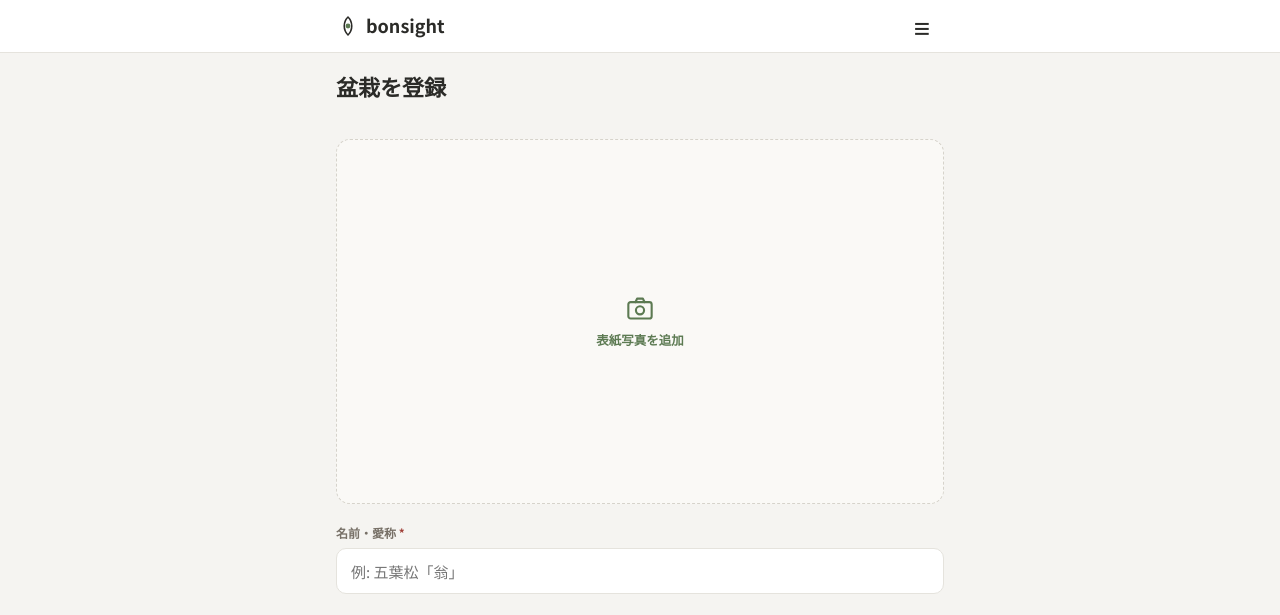
S2Form › ブラウザが数値に変換できない入力も送信しない
This screenshot has width=1280, height=615.
Type "松" into the field named "名前・愛称" at (640, 572), box [336, 548, 944, 594]
(page scrolled)
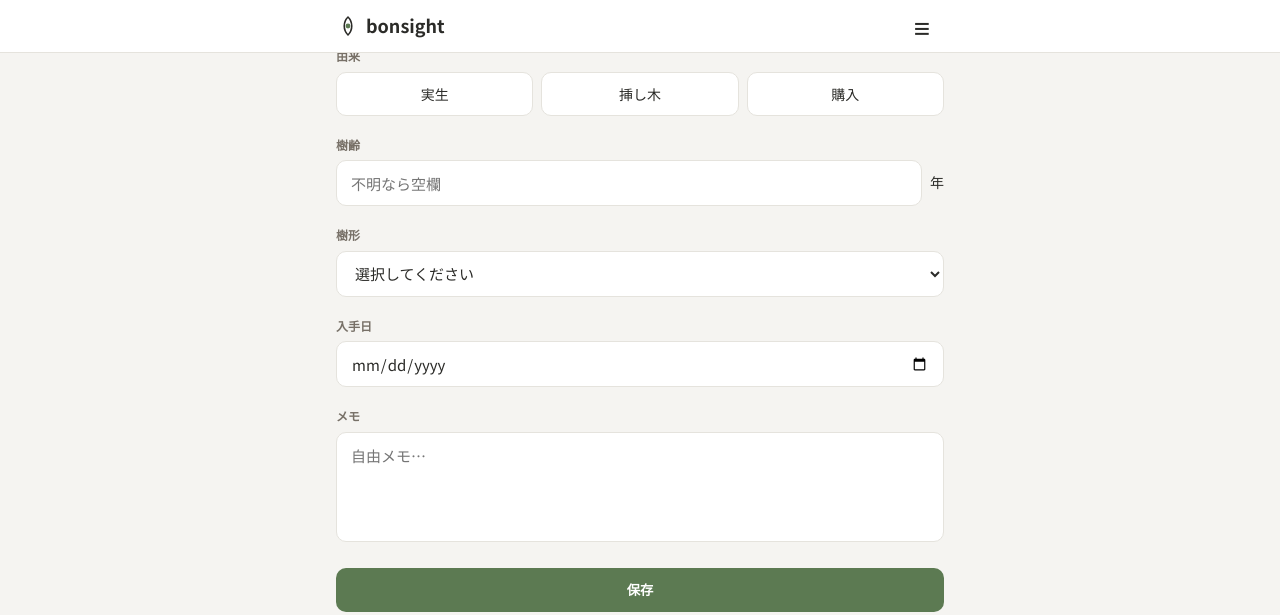
Click the button "保存" at (640, 590), box [336, 568, 944, 612]
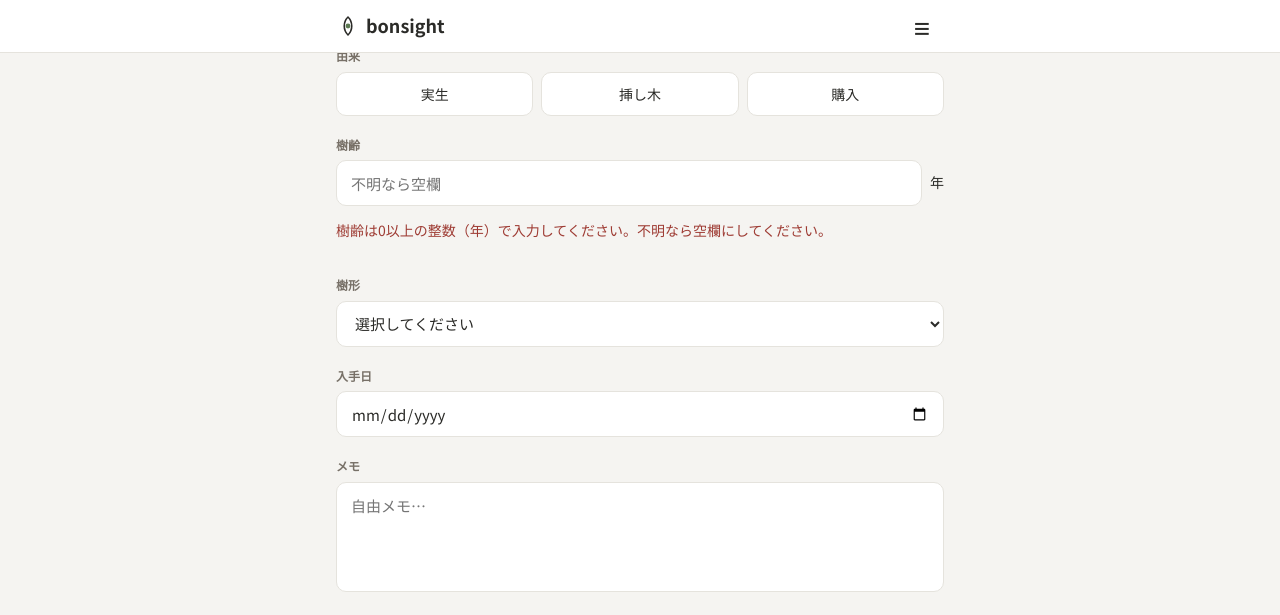
Check: the message shows "整数", box [336, 220, 832, 240]
